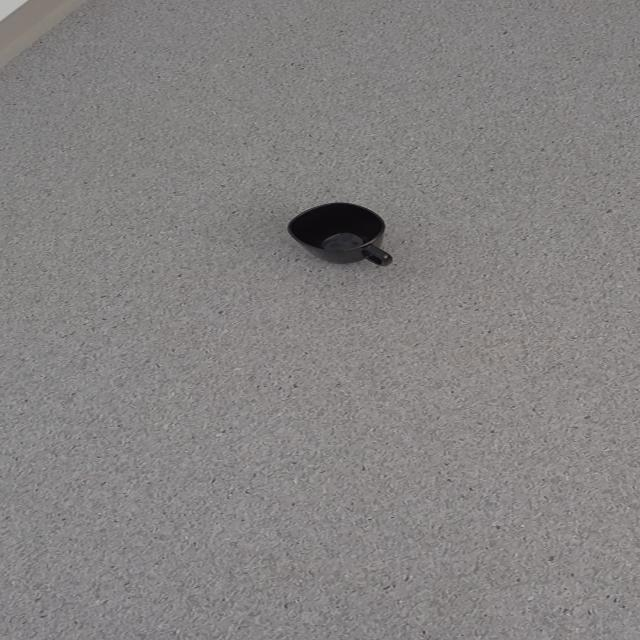mug: (286, 201, 393, 267)
